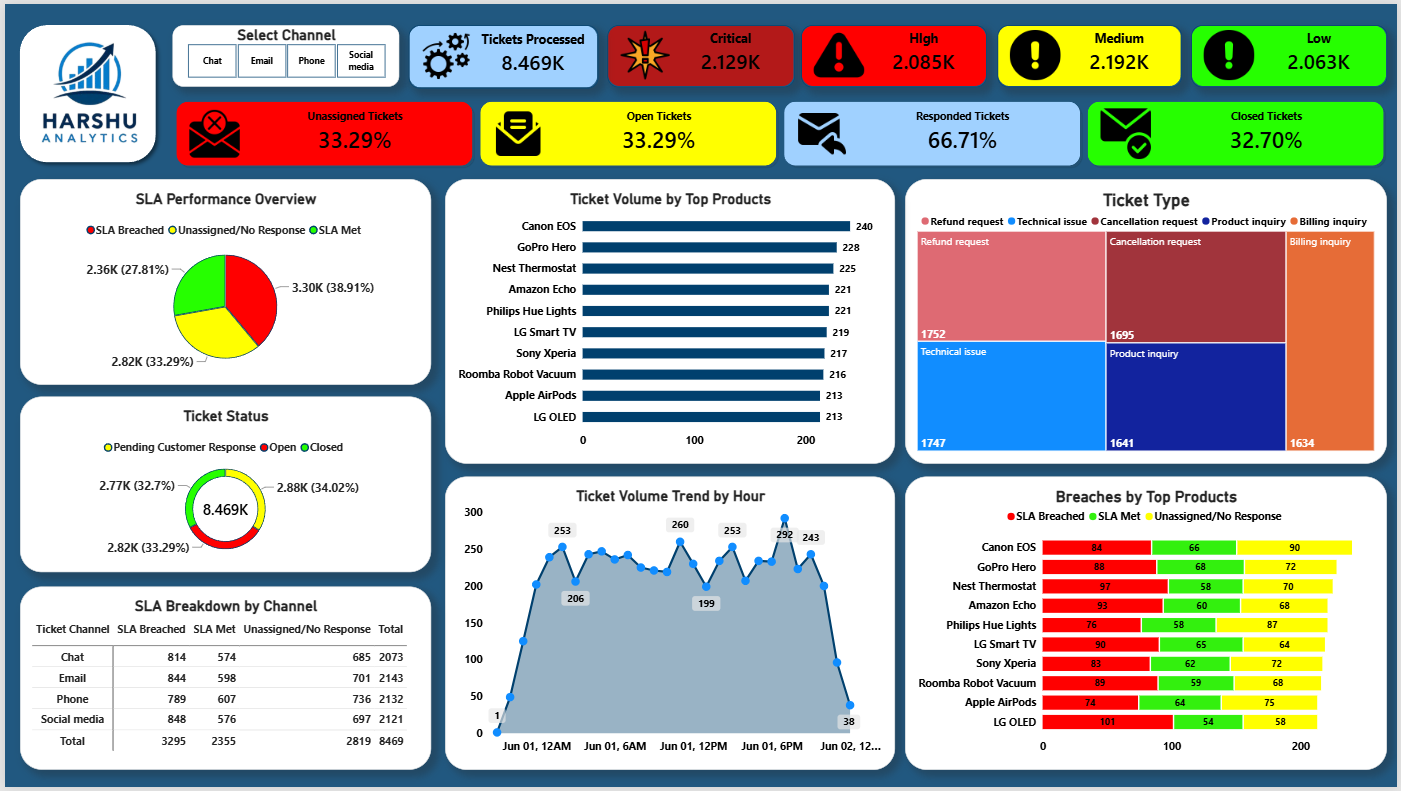

The page's visual inventory and layout, read from the dashboard file:
{"tool":"powerbi","page":{"name":"DashBoard","canvas":[1920,1080],"ordinal":0},"visuals":[{"type":"pieChart","title":"SLA Performance Overview","fields":{"Category":["Customer_Support_Tickets.SLA Status"],"Y":["CountNonNull(Customer_Support_Tickets.SLA Status)"]},"box":[20.9,240.7,566.9,284.3],"z":0},{"type":"slicer","title":"Select Channel","fields":{"Values":["Customer_Support_Tickets.Ticket Channel"]},"box":[230.2,29.7,313,85],"z":2000},{"type":"areaChart","title":"Ticket Volume Trend by Hour","fields":{"Category":["Customer_Support_Tickets.First Response Time (bins)"],"Y":["Count(Customer_Support_Tickets.Ticket ID)"]},"box":[607,652.3,620.9,404.7],"z":3000},{"type":"pivotTable","title":"SLA Breakdown by Channel","fields":{"Columns":["Customer_Support_Tickets.SLA Status"],"Rows":["Customer_Support_Tickets.Ticket Channel"],"Values":["Count(Customer_Support_Tickets.Ticket ID)"]},"box":[20.9,804.1,566.9,252.9],"z":4000},{"type":"treemap","title":"Ticket Type","fields":{"Group":["Customer_Support_Tickets.Ticket Type"],"Values":["Count(Customer_Support_Tickets.Ticket ID)"]},"box":[1241.9,240.7,664.5,392.4],"z":5000},{"type":"clusteredBarChart","title":"Ticket Volume by Top Products","fields":{"Category":["Customer_Support_Tickets.Product Purchased"],"Y":["Count(Customer_Support_Tickets.Ticket ID)"]},"box":[607,240.7,620.9,392.4],"z":6000},{"type":"donutChart","title":"Ticket Status","fields":{"Category":["Customer_Support_Tickets.Ticket Status"],"Y":["CountNonNull(Customer_Support_Tickets.Ticket Status)"]},"box":[20.9,540.7,566.9,242.4],"z":7000},{"type":"cardVisual","title":"critical","fields":{"Data":["CountNonNull(Customer_Support_Tickets.Ticket ID)"]},"box":[830.2,29.7,258.1,85.5],"z":8000},{"type":"cardVisual","title":"High","fields":{"Data":["CountNonNull(Customer_Support_Tickets.Ticket ID)"]},"box":[1098.8,29.7,256.4,85.5],"z":9000},{"type":"cardVisual","title":"Medium","fields":{"Data":["CountNonNull(Customer_Support_Tickets.Ticket ID)"]},"box":[1369.2,29.7,254.7,85.5],"z":10000},{"type":"cardVisual","title":"Low","fields":{"Data":["CountNonNull(Customer_Support_Tickets.Ticket ID)"]},"box":[1636.1,29.7,270.3,85.5],"z":11000},{"type":"cardVisual","fields":{"Data":["Count(Customer_Support_Tickets.Ticket ID)"]},"box":[556.4,29.7,261.6,87.2],"z":12000},{"type":"barChart","title":"Breaches by Top Products","fields":{"Category":["Customer_Support_Tickets.Product Purchased"],"Series":["Customer_Support_Tickets.SLA Status"],"Y":["CountNonNull(Customer_Support_Tickets.Ticket ID)"]},"box":[1241.9,652.3,664.5,404.7],"z":13000},{"type":"cardVisual","fields":{"Data":["Customer_Support_Tickets.Unassigned Tickets","Customer_Support_Tickets.Open Tickets","Customer_Support_Tickets.Responded","Customer_Support_Tickets.Closed Tickets"]},"box":[230.2,129.1,1676.2,99.4],"z":14000},{"type":"shape","box":[10.5,19.2,207.6,209.3],"z":15000},{"type":"image","box":[33.1,29.7,164,184.9],"z":16000}]}

Visuals, with their boxes in screenshot pixels (x1, y1, x2, y2), scaled from the page's 1920x1080 canvas onto the 1401x791 screenshot:
"SLA Performance Overview" pieChart: <box>15,176,429,385</box>
"Select Channel" slicer: <box>168,22,396,84</box>
"Ticket Volume Trend by Hour" areaChart: <box>443,478,896,774</box>
"SLA Breakdown by Channel" pivotTable: <box>15,589,429,774</box>
"Ticket Type" treemap: <box>906,176,1391,464</box>
"Ticket Volume by Top Products" clusteredBarChart: <box>443,176,896,464</box>
"Ticket Status" donutChart: <box>15,396,429,574</box>
"critical" cardVisual: <box>606,22,794,84</box>
"High" cardVisual: <box>802,22,989,84</box>
"Medium" cardVisual: <box>999,22,1185,84</box>
"Low" cardVisual: <box>1194,22,1391,84</box>
cardVisual - Count(Customer_Support_Tickets.Ticket ID): <box>406,22,597,86</box>
"Breaches by Top Products" barChart: <box>906,478,1391,774</box>
cardVisual - Customer_Support_Tickets.Unassigned Tickets x Customer_Support_Tickets.Open Tickets: <box>168,95,1391,167</box>
shape: <box>8,14,159,167</box>
image: <box>24,22,144,157</box>
